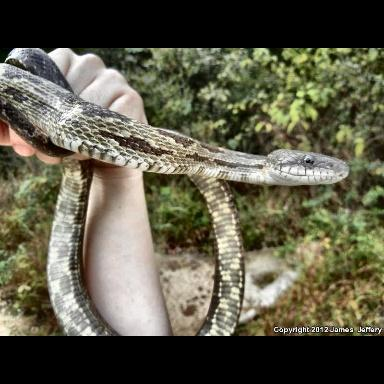snake: (0, 48, 350, 335)
